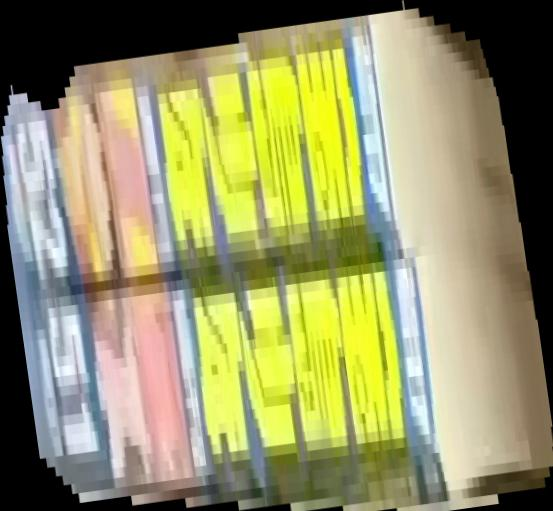flat: (1, 1, 553, 511)
